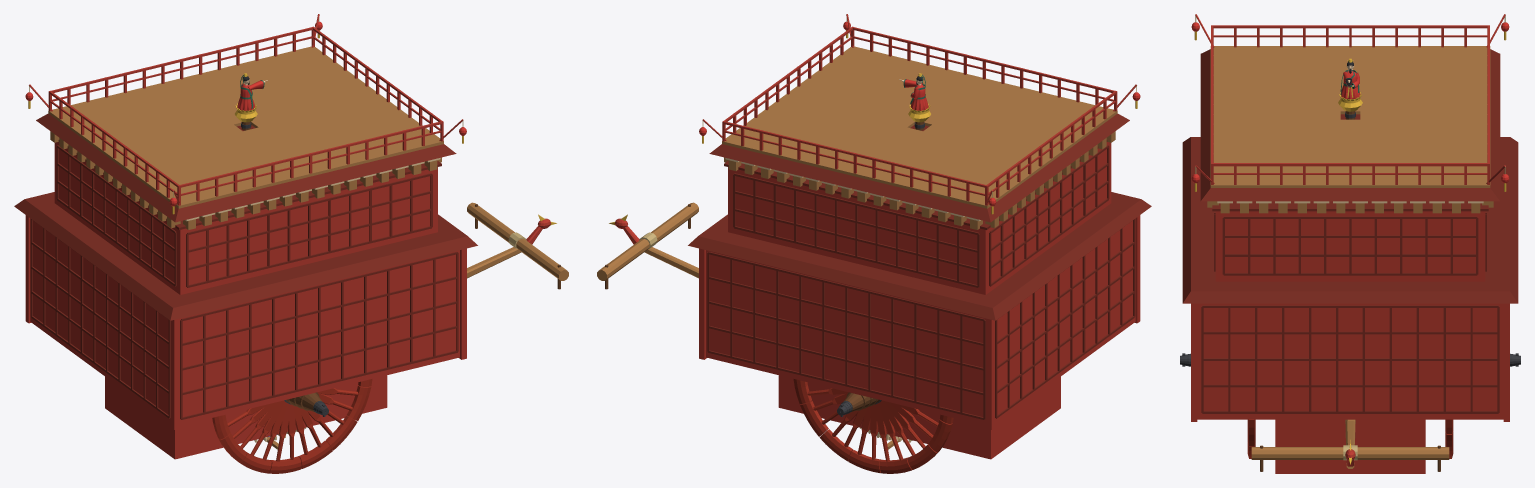
File: chariot-differential.glb
3 renders of one model, left to right at view 1: azimuth 30°, elevation 25°; view 2: azimuth 150°, elevation 25°; view 3: azimuth 270°, elevation 25°, orthographic. The views are drawn at different scales.
Parts seen in each view (by area): view 1: body.tier, body.top, body.side.R, body.end.B, wheel.R, body.pole, body.end.F, figure; view 2: body.tier, body.top, body.side.L, body.end.B, wheel.L, body.pole, body.end.F, figure; view 3: body.tier, body.end.F, body.top, body.pole, figure.
Boxes of the visible parts, box(x1,y1,x2,y2) form: body.tier: box(14, 113, 477, 320); body.top: box(25, 14, 466, 214); body.side.R: box(136, 250, 459, 458); body.end.B: box(25, 215, 179, 459); wheel.R: box(212, 379, 372, 473); body.pole: box(467, 202, 568, 289); body.end.F: box(459, 248, 466, 359); figure: box(235, 73, 267, 114); body.tier: box(688, 113, 1151, 320); body.top: box(699, 14, 1140, 214); body.side.L: box(706, 250, 1022, 459); body.end.B: box(986, 215, 1140, 459); wheel.L: box(793, 379, 953, 473); body.pole: box(597, 202, 698, 289); body.end.F: box(699, 248, 780, 407); figure: box(899, 73, 930, 114); body.tier: box(1182, 49, 1518, 303); body.end.F: box(1191, 303, 1509, 473); body.top: box(1191, 14, 1509, 191); body.pole: box(1251, 419, 1449, 471); figure: box(1339, 58, 1361, 103).
Bounding box in the file's own units: 17.53 × 13.08 × 10.36.
